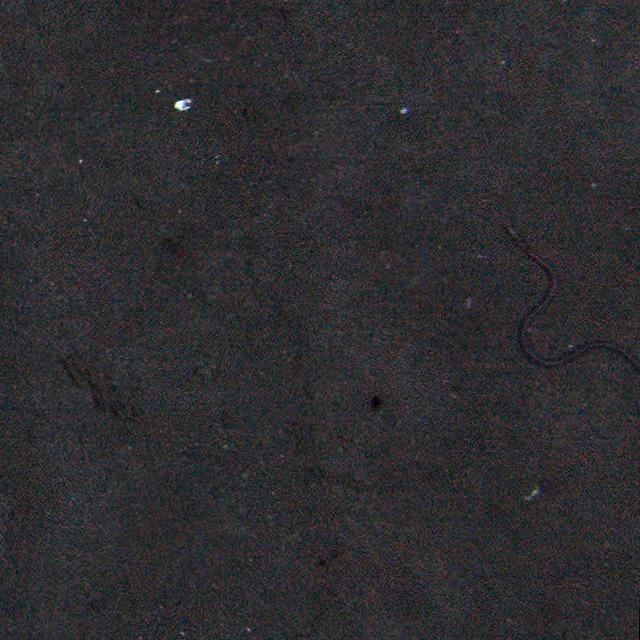eel: (503, 224, 639, 374)
